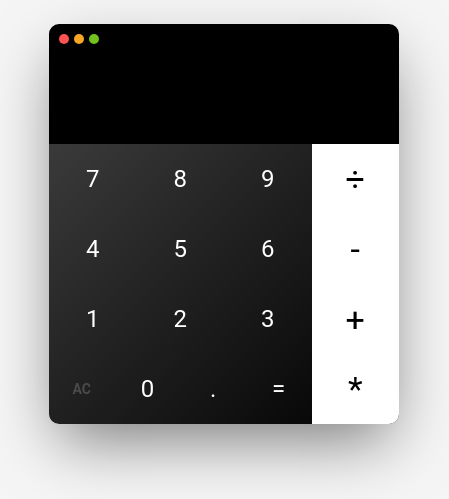
Test case: Calculator performs multiplication correctly
Click the text "6": (268,249) [261,235,274,263]
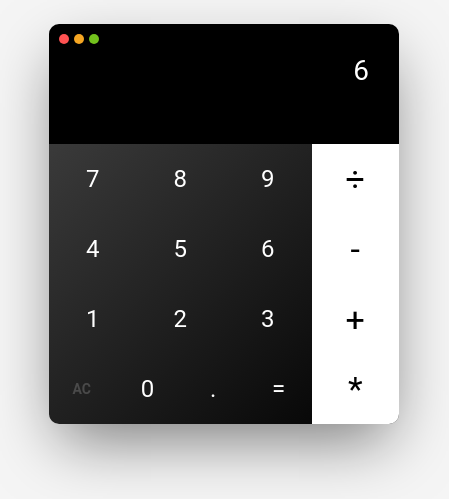
Click the text "*": (355,389) [348,369,363,409]
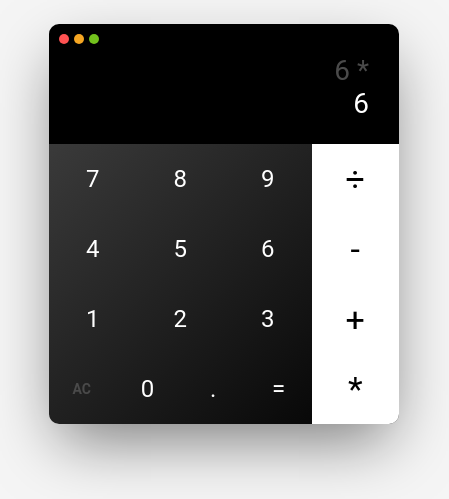
Click the text "7": (93,179) [86,165,100,193]
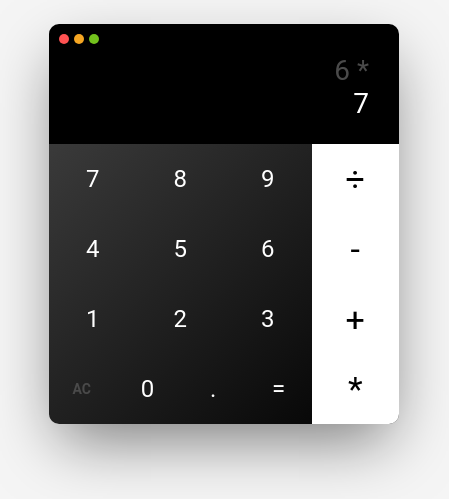
Click the text "=": (279,389) [272,375,285,403]
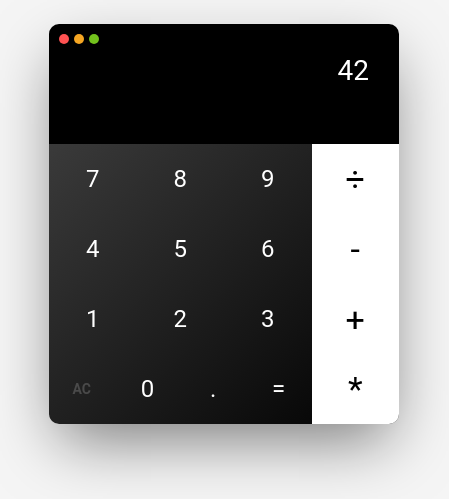
Now the text "42" is shown, box [338,54,369,87]
